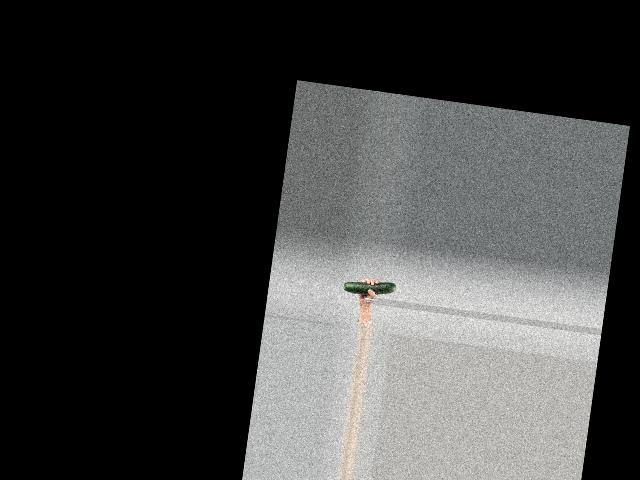cucumber: (344, 276, 396, 299)
